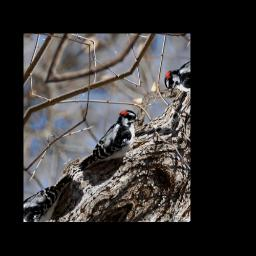Woodpecker: (68, 102, 153, 185)
